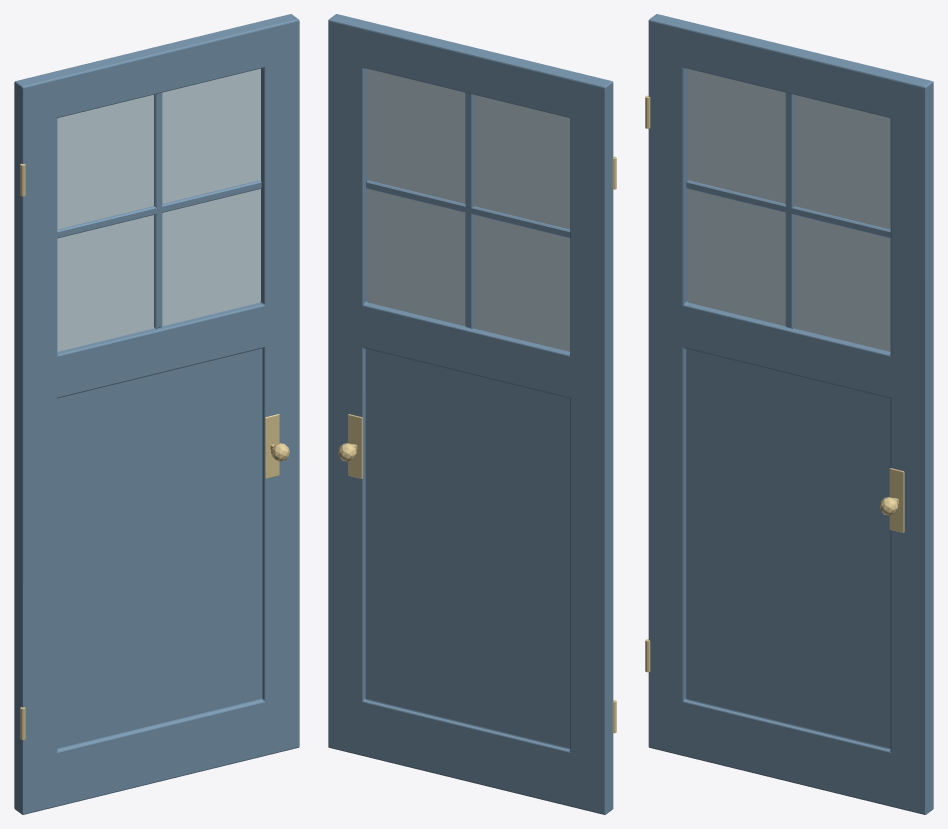
Rendered from door_leaf_front.glb.
3 views of the same model, side by side, from view 1: azimuth 30°, elevation 25°; view 2: azimuth 150°, elevation 25°; view 3: azimuth 330°, elevation 25° (orthographic).
Visible parts, largest first — view 1: door_leaf_front_door, door_leaf_front_glass, door_leaf_front_brass; view 2: door_leaf_front_door, door_leaf_front_glass, door_leaf_front_brass; view 3: door_leaf_front_door, door_leaf_front_glass, door_leaf_front_brass.
Boxes of the visible parts, <box> form: door_leaf_front_door: <box>14,14,299,814</box>; door_leaf_front_glass: <box>57,68,260,351</box>; door_leaf_front_brass: <box>20,163,289,739</box>; door_leaf_front_door: <box>328,14,613,814</box>; door_leaf_front_glass: <box>367,68,570,351</box>; door_leaf_front_brass: <box>338,156,616,733</box>; door_leaf_front_door: <box>648,14,933,814</box>; door_leaf_front_glass: <box>687,68,890,351</box>; door_leaf_front_brass: <box>645,95,904,672</box>.
Size of the model in its own units: 0.948 by 2.36 by 0.206.
